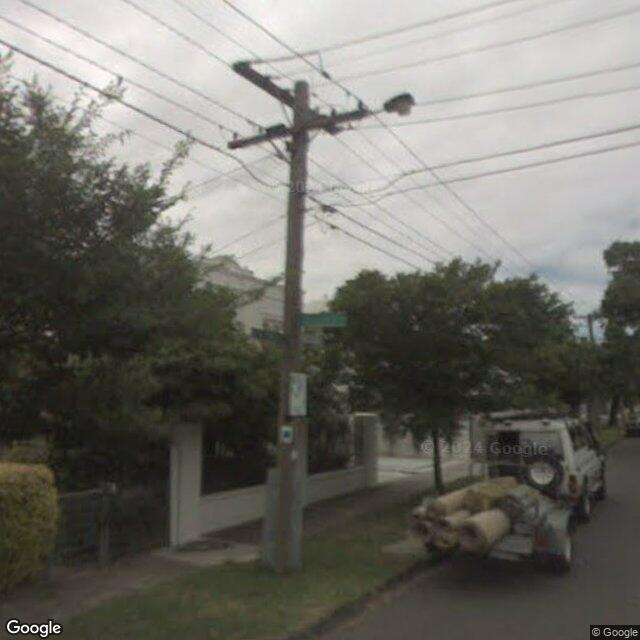crossarm: (231, 51, 344, 137), (230, 102, 372, 150)
streetlight: (366, 92, 416, 118)
timber-pole: (275, 82, 310, 573)
